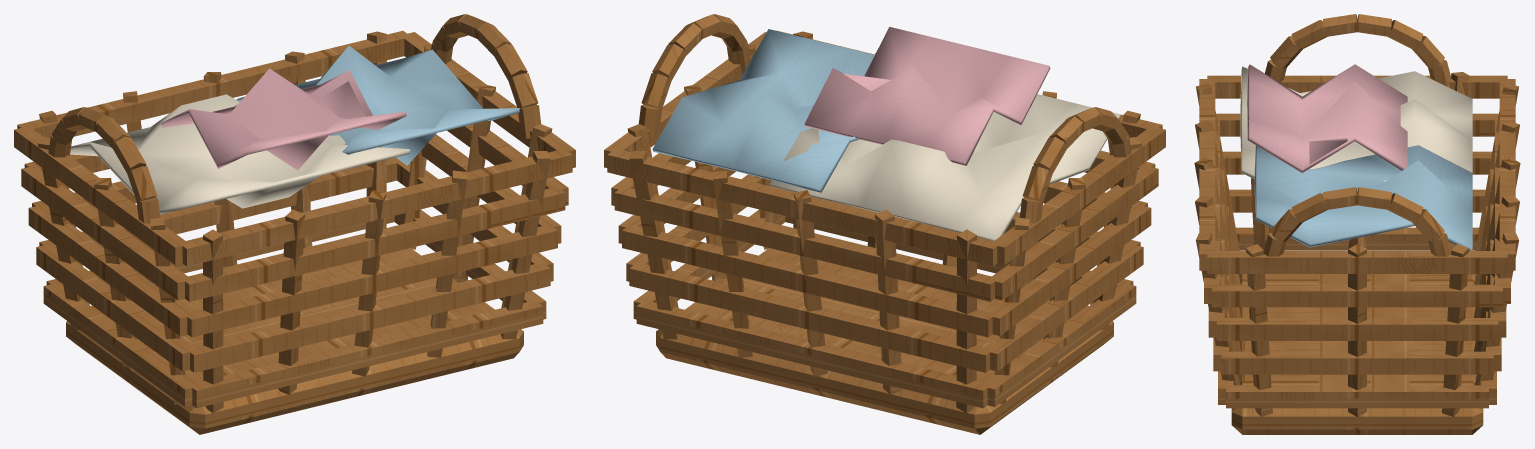
Rendered from Furn_LaundryBasket.fbx.
3 views of the same model, side by side, from view 1: azimuth 30°, elevation 25°; view 2: azimuth 150°, elevation 25°; view 3: azimuth 270°, elevation 25° (orthographic). The views are drawn at different scales.
Visible parts, largest first — view 1: Furn_LaundryBasket_Mesh; view 2: Furn_LaundryBasket_Mesh; view 3: Furn_LaundryBasket_Mesh.
Part boxes in pixels (x1=…): Furn_LaundryBasket_Mesh: x1=14, y1=14, x2=575, y2=434; Furn_LaundryBasket_Mesh: x1=604, y1=14, x2=1165, y2=434; Furn_LaundryBasket_Mesh: x1=1194, y1=14, x2=1520, y2=434.
Size of the model in its own units: 0.6017 by 0.4153 by 0.4537.
3 materials, 3 textured.
